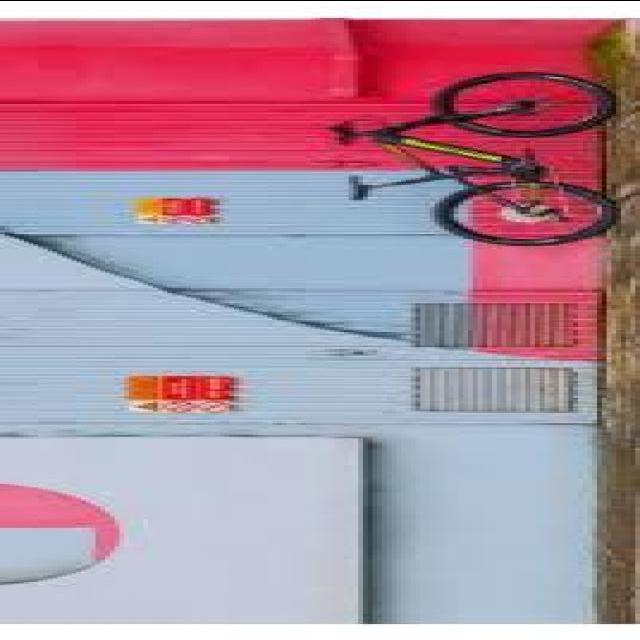bicycle: (321, 70, 617, 244)
